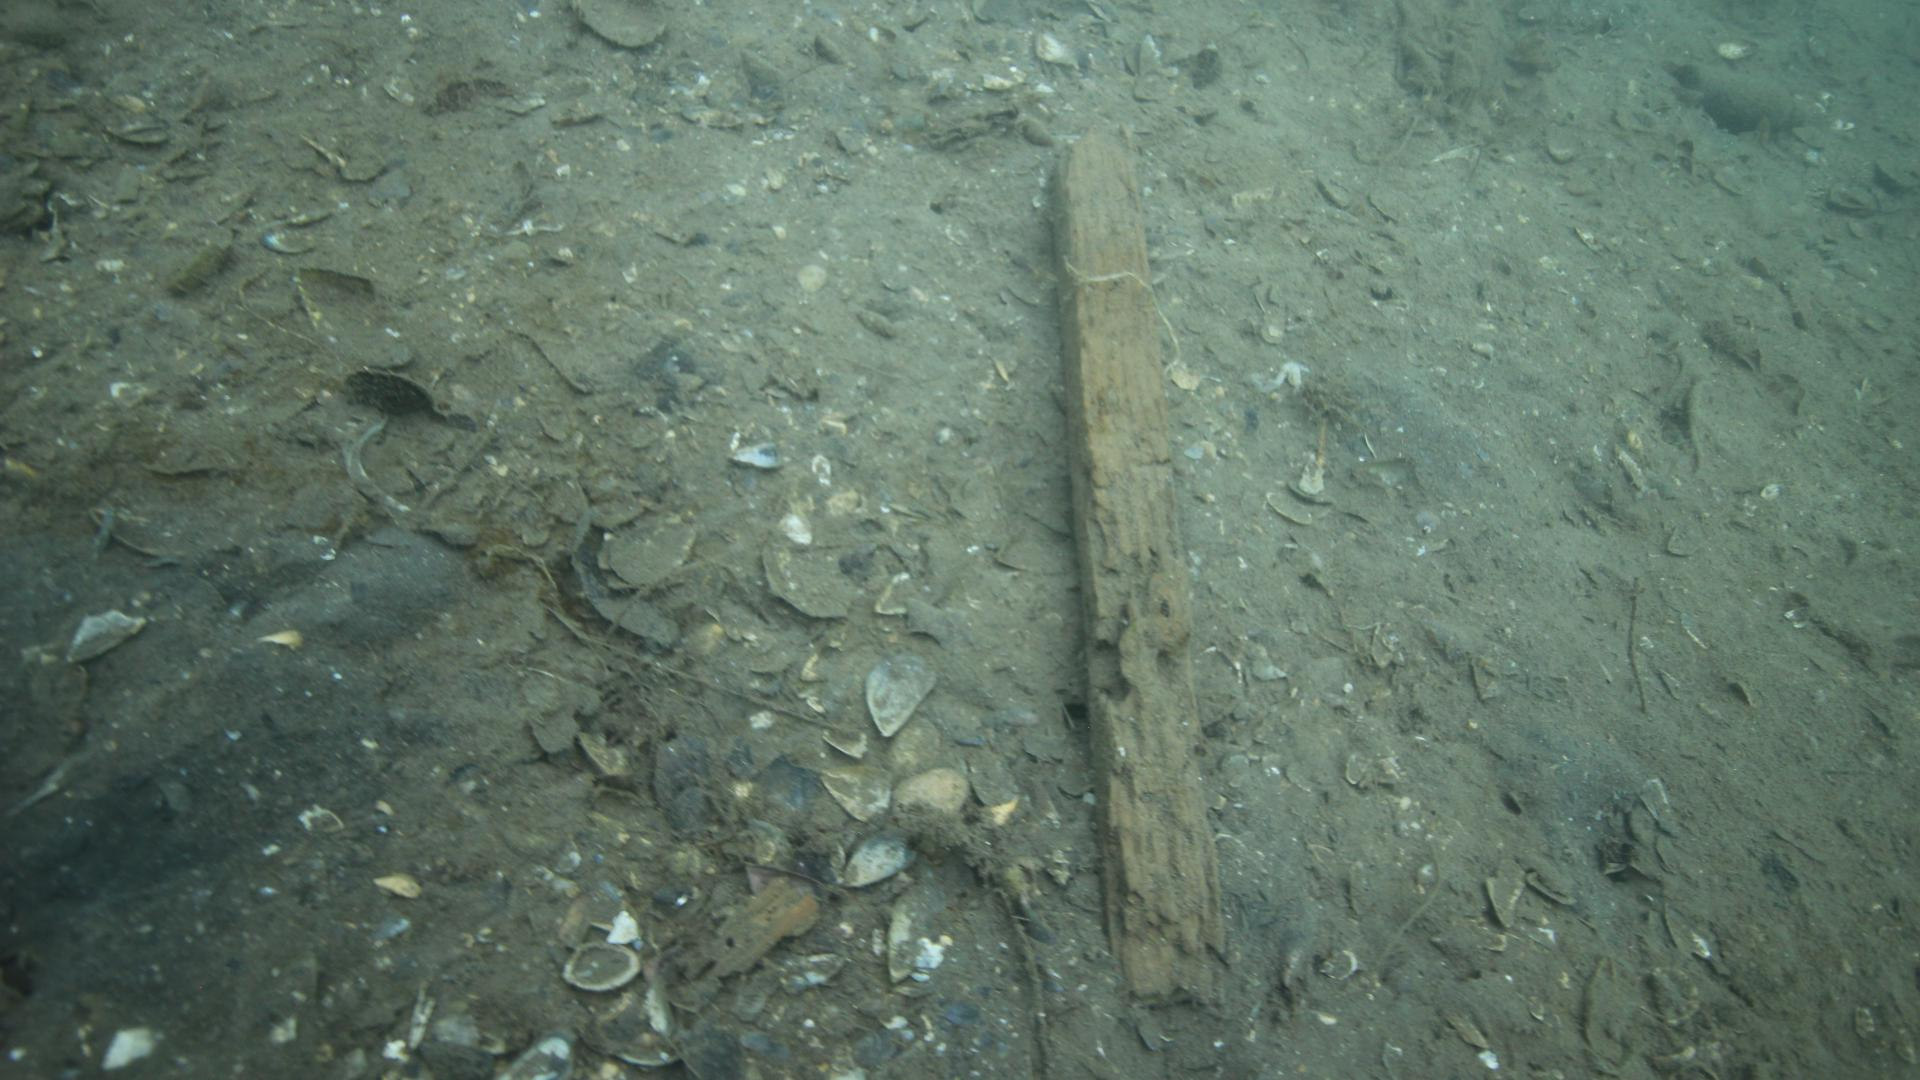wood: (1044, 124, 1236, 1025)
